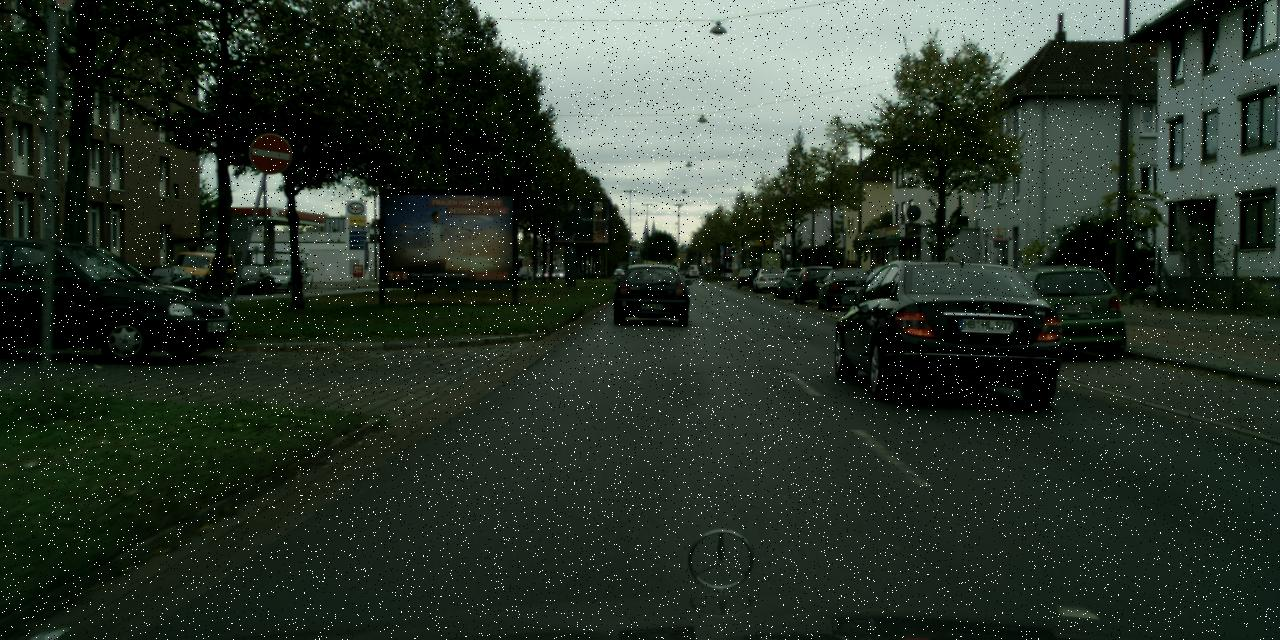ped: (943, 254, 959, 295)
